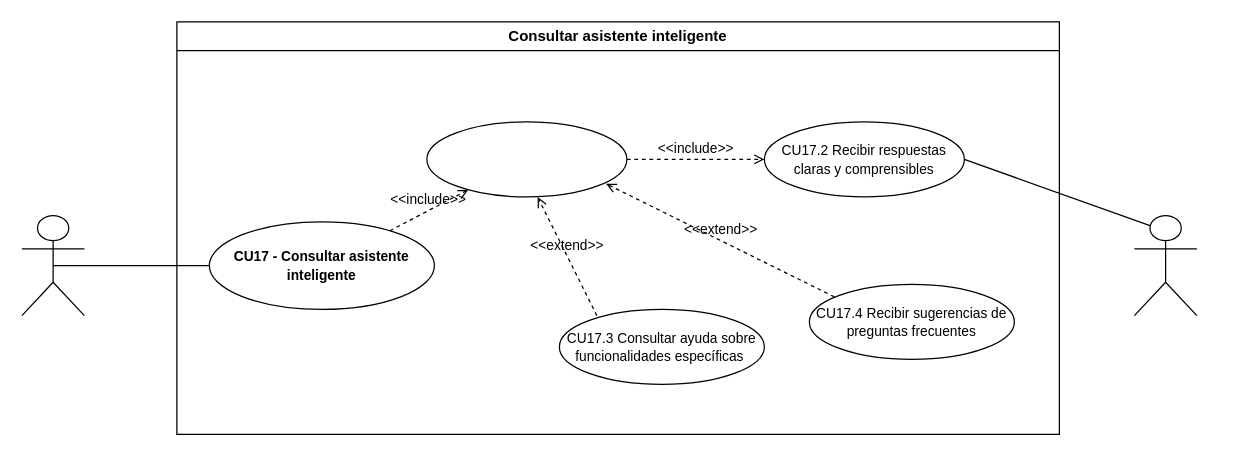
Some shapes in this 1239 by 456 pixel diagram are drawn without their labels. Each missing label, with the centre of its shape:
"Base de Datos" goes at (1165,265).
"CU17.1 Hacer preguntas al asistente inteligente" goes at (526,159).
"Usuario" goes at (52,265).
